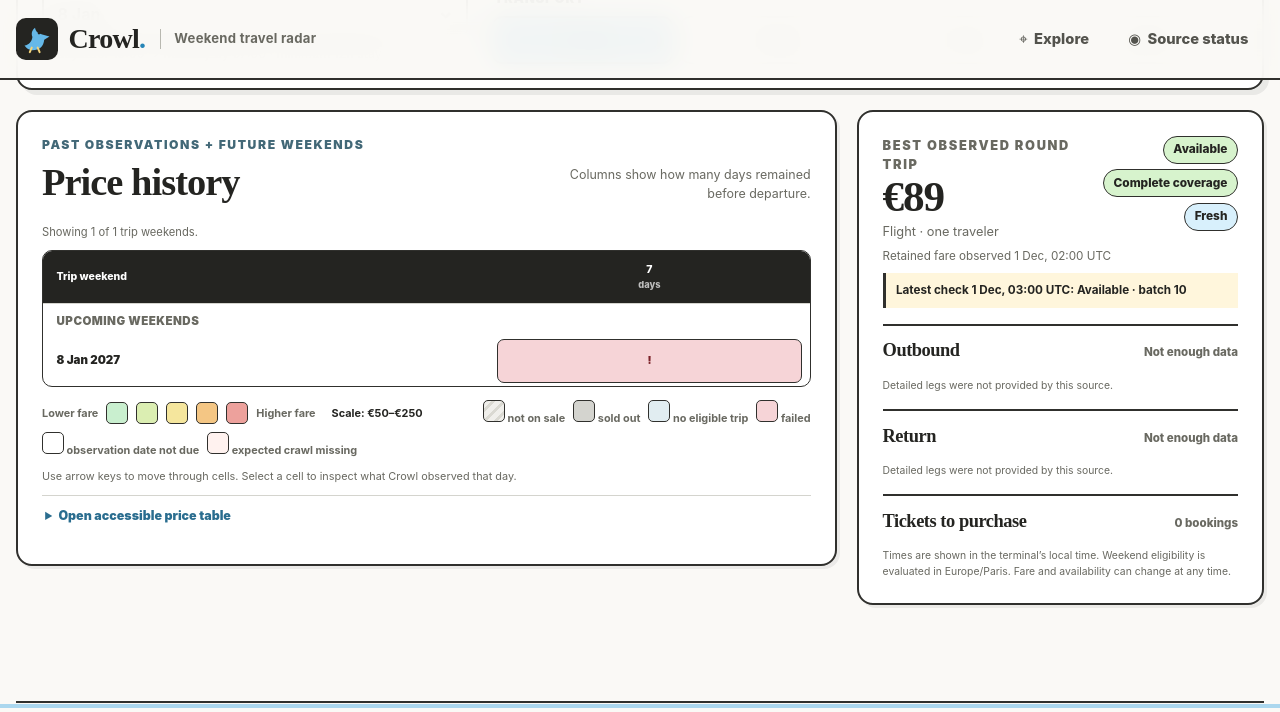
Test: Crowl application › does not fetch the latest journey for a selected no-revision history cell
The width and height of the screenshot is (1280, 712).
(page scrolled)
Expected: the text "Best observed round trip" is shown, [882,136,1087,174]
Click the button "!" at (650, 361), box [497,339,802,383]
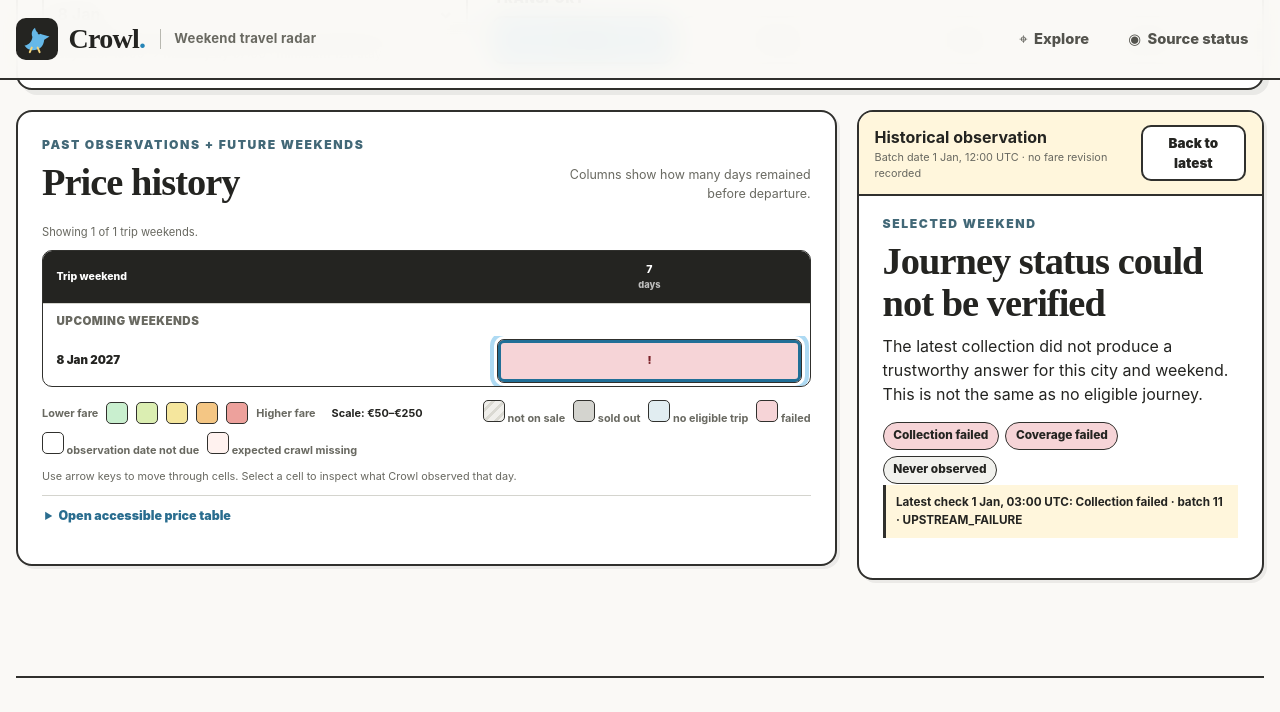
Expected: the heading "Journey status could not be verified" is shown, [882,242,1238,324]
Expected: the button "Back to latest" is shown, [1141,125,1246,181]
